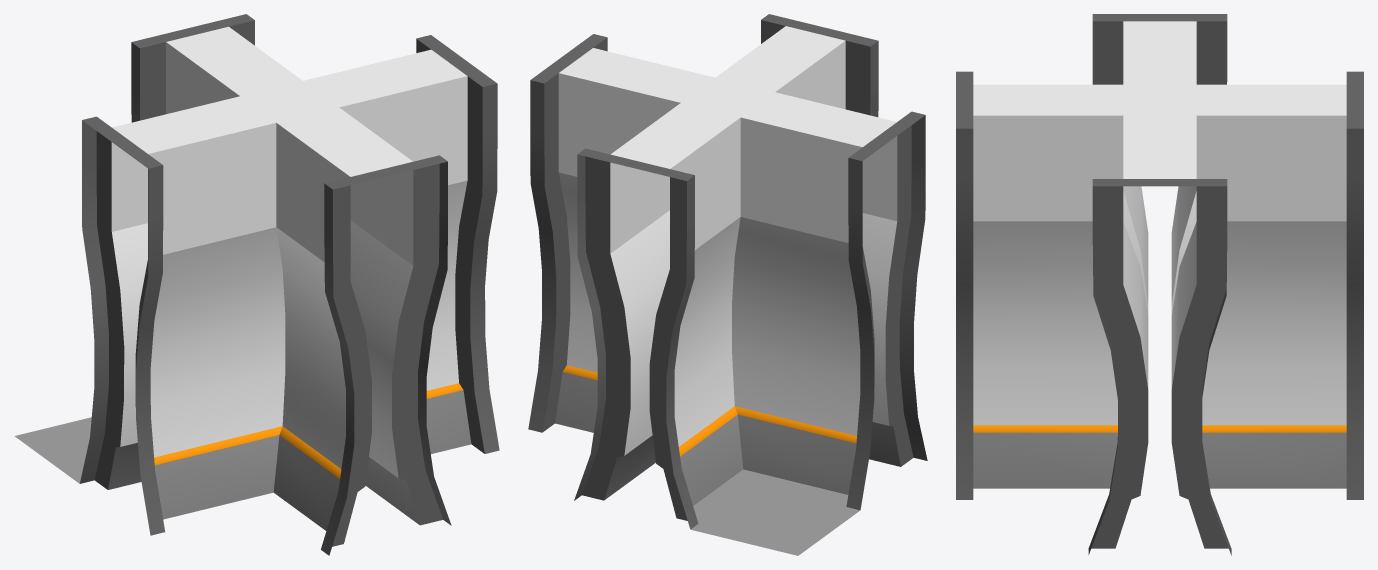
File: SM_InteriorWall_X_04.fbx
The picture shows the model from 3 angles, left to right: view 1: azimuth 30°, elevation 25°; view 2: azimuth 150°, elevation 25°; view 3: azimuth 270°, elevation 25°; orthographic projection. The views are drawn at different scales.
Parts seen in each view (by area): view 1: SM_InteriorWall_X_04; view 2: SM_InteriorWall_X_04; view 3: SM_InteriorWall_X_04.
Boxes of the visible parts, bbox=[...] form: SM_InteriorWall_X_04: bbox=[14, 14, 499, 555]; SM_InteriorWall_X_04: bbox=[528, 14, 927, 555]; SM_InteriorWall_X_04: bbox=[956, 14, 1363, 555].
Size of the model in its own units: 200 by 200 by 200.
1 material, 1 textured.
